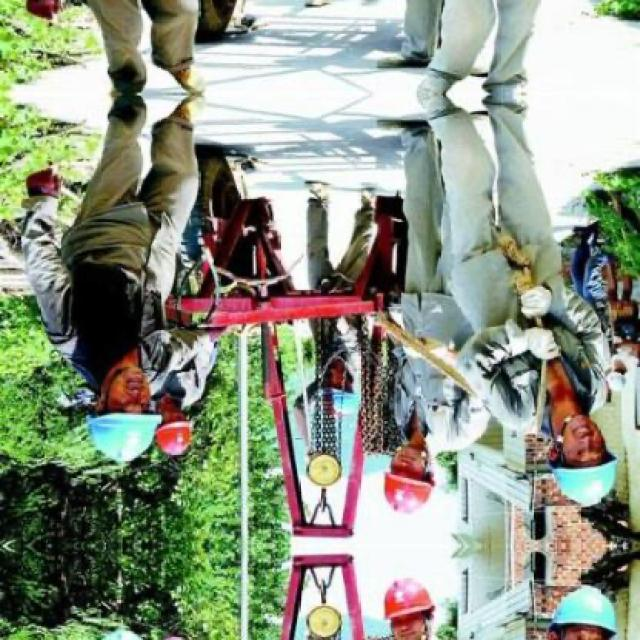con casco: (381, 546, 464, 618), (84, 406, 180, 452), (556, 464, 633, 510), (383, 464, 442, 522), (157, 407, 206, 456), (558, 583, 614, 625)
